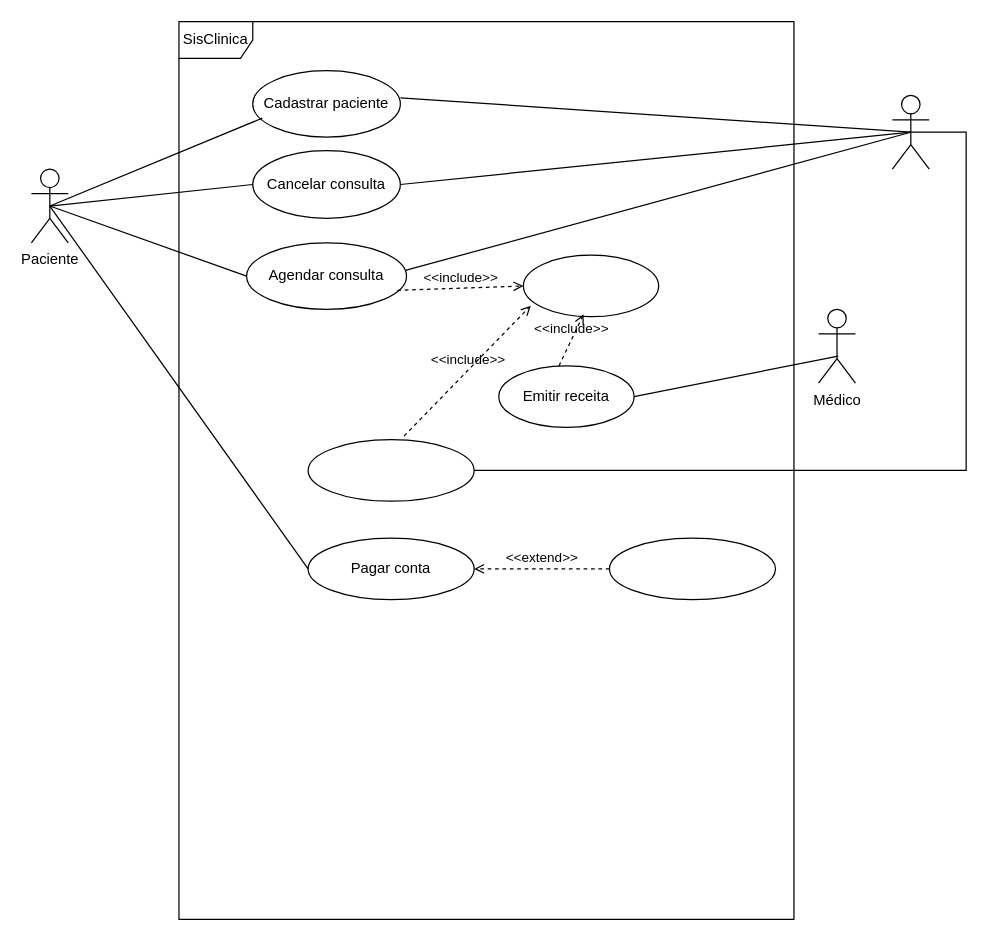
Image size: 989x941. Some labels were removed from this diagram. Here are the shapes that lost their labels. From the top down, the box of each, then its label:
(891, 94, 929, 169): Secretaria
(522, 254, 659, 317): Validar dados
(307, 438, 474, 501): Emitir conta
(608, 537, 776, 600): Formas de pagamento
